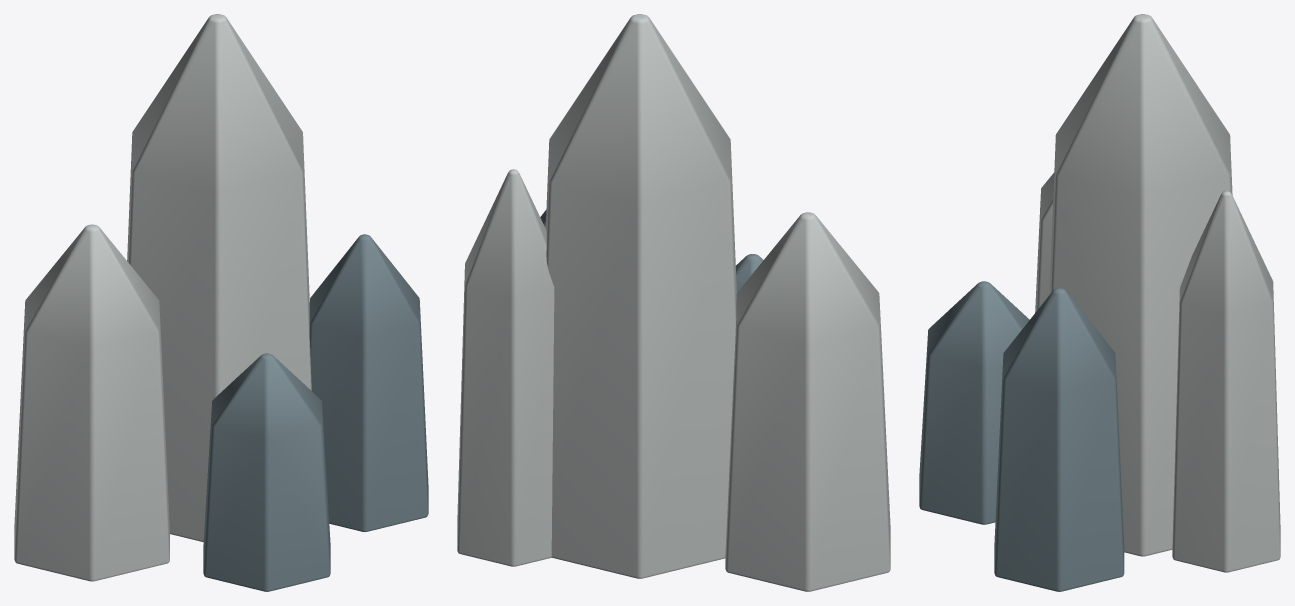
The model's file is crystal-cluster.glb.
The picture shows the model from 3 angles, left to right: view 1: azimuth 30°, elevation 25°; view 2: azimuth 150°, elevation 25°; view 3: azimuth 270°, elevation 25°; orthographic projection. The views are drawn at different scales.
Parts seen in each view (by area): view 1: crystal.001, crystal, crystal.002, crystal.003; view 2: crystal.001, crystal, crystal.004; view 3: crystal.001, crystal.004, crystal.002, crystal.003, crystal.
Boxes of the visible parts, x1,y1,x2,y2 form: crystal.001: (127,14,311,542); crystal: (14,224,169,581); crystal.002: (309,234,428,531); crystal.003: (203,353,330,591); crystal.001: (545,14,736,578); crystal: (725,212,890,591); crystal.004: (457,169,554,566); crystal.001: (1049,14,1232,556); crystal.004: (1172,191,1280,572); crystal.002: (994,288,1124,591); crystal.003: (919,281,1029,524); crystal: (1035,172,1054,312).
Bounding box in the file's own units: 0.5472 × 0.65 × 0.4326.
